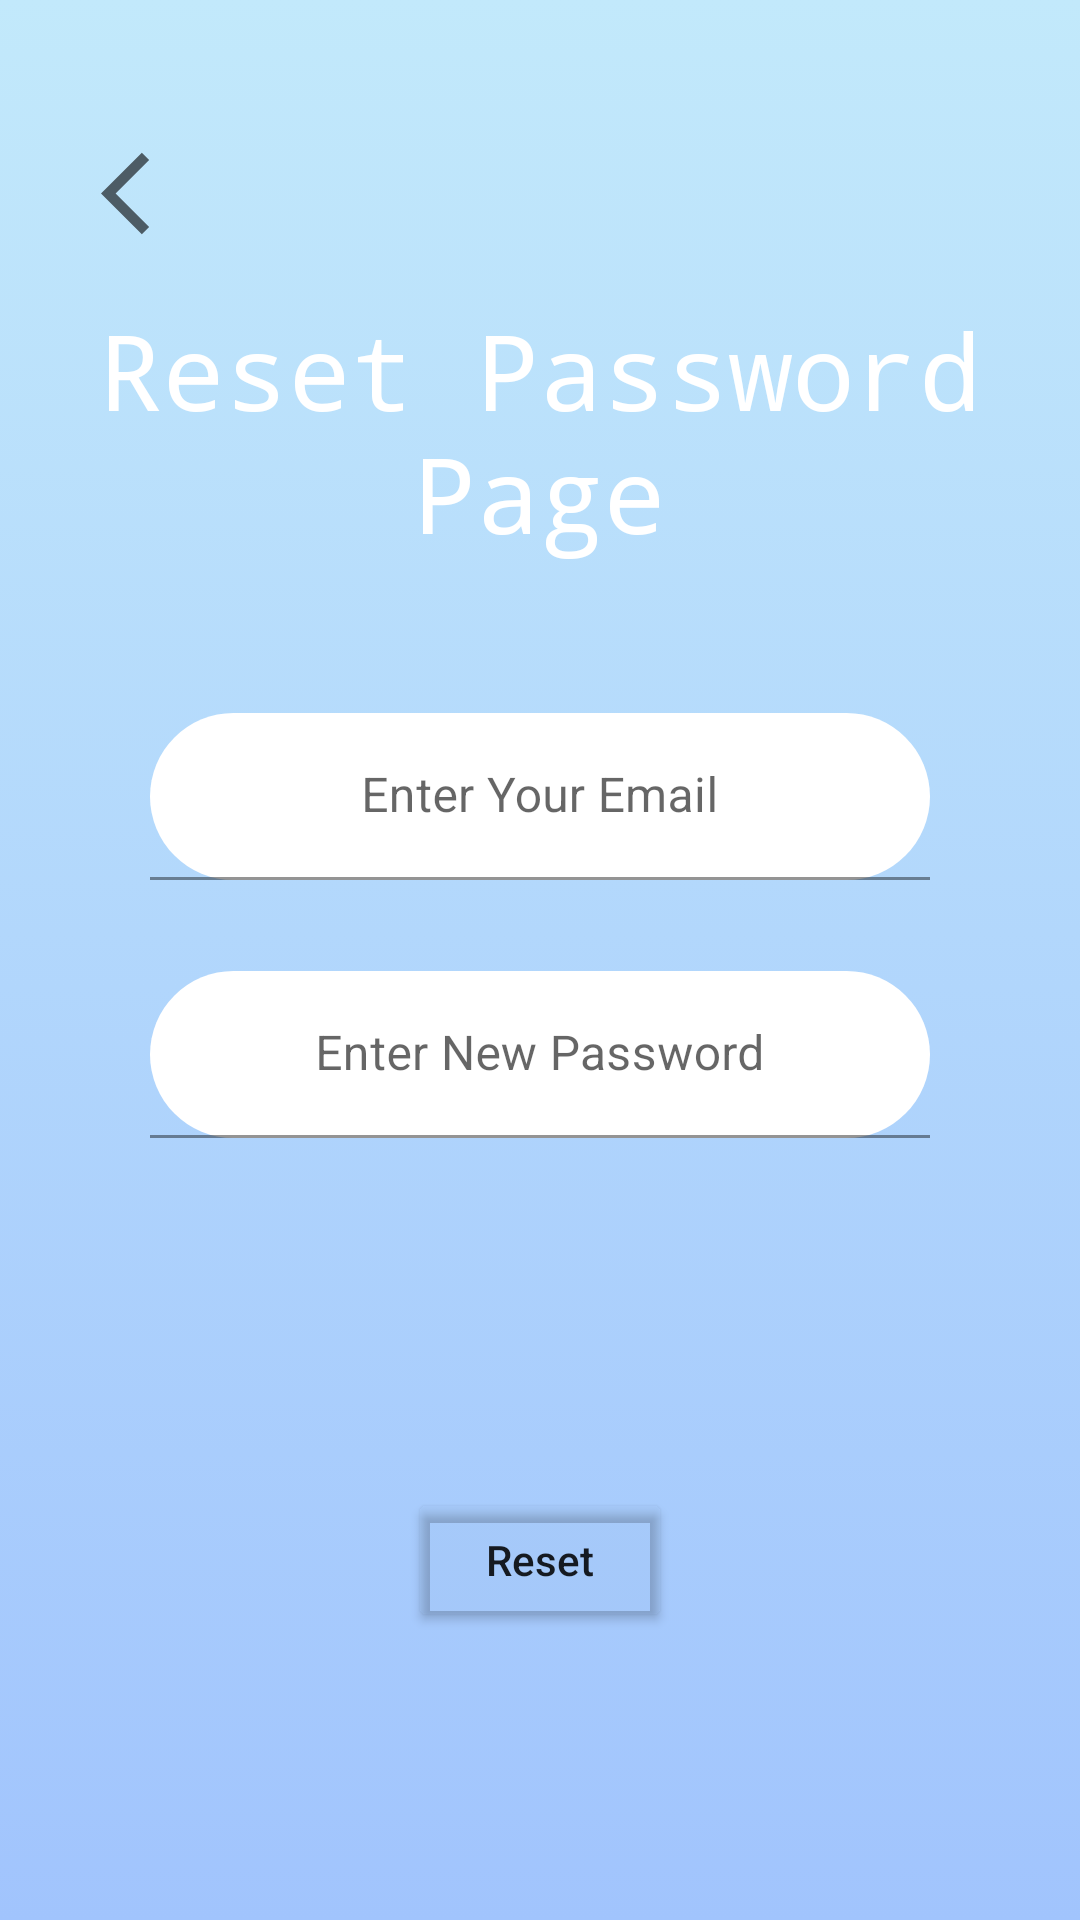

Where icons sit on this 1080×1920 app screen, as (x1, y1, x2, y2):
arrow back: (101, 153, 149, 234)
